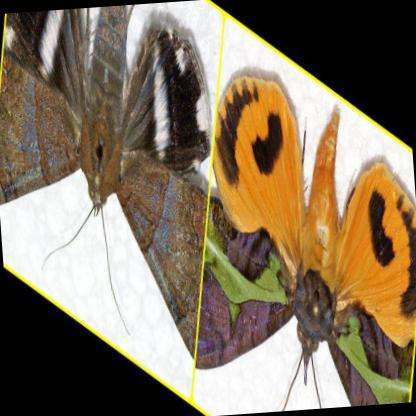fruit sucking moth: (199, 75, 416, 403)
